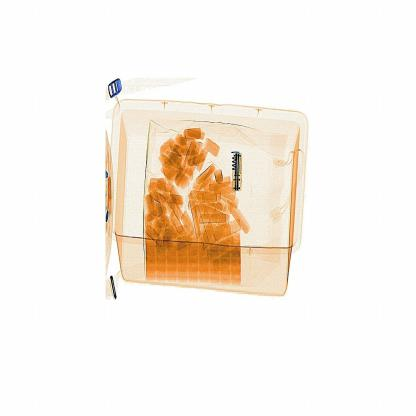scissors: (224, 140, 252, 200)
